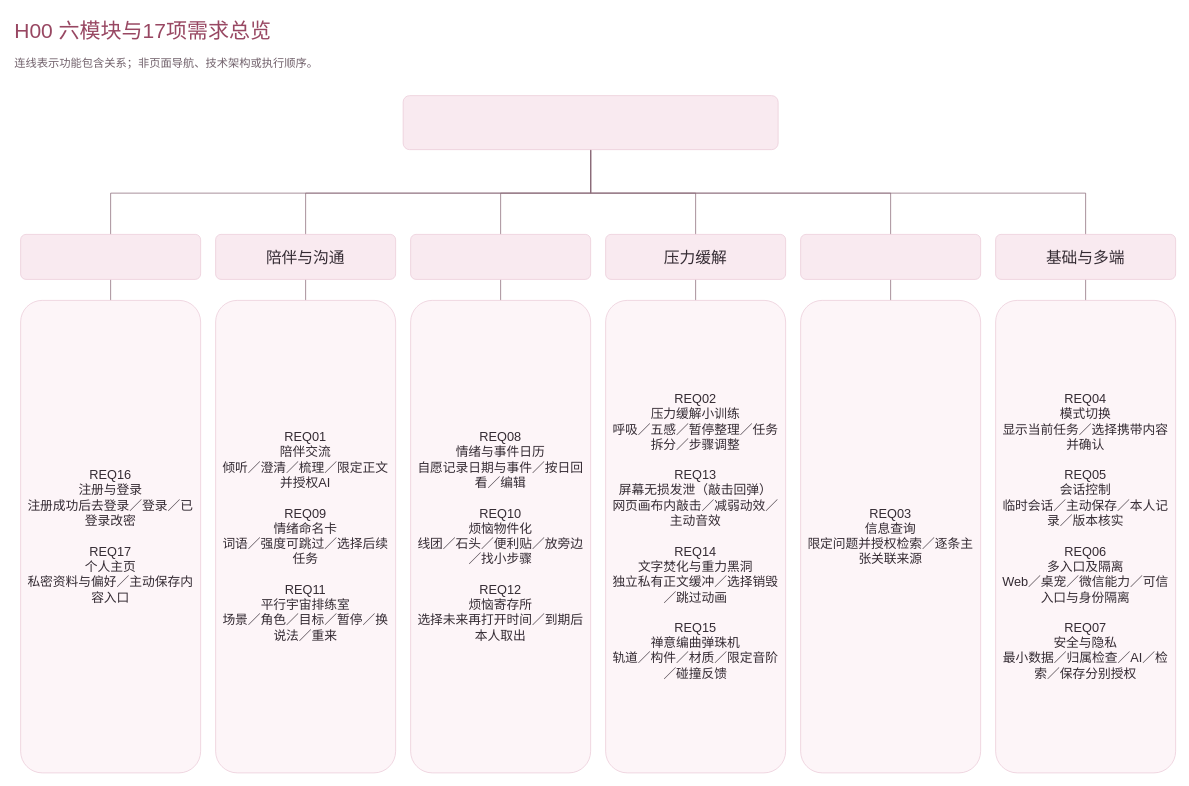
This 1189x786 diagram has some shape labels left out. Each missing label, with the centre of its shape:
"404NOTFOUND 用户自主选择的情绪支持工具" goes at point 590,122.
"信息支持" goes at point 890,256.
"记录与整理" goes at point 500,256.
"账号与个人中心" goes at point 110,256.
